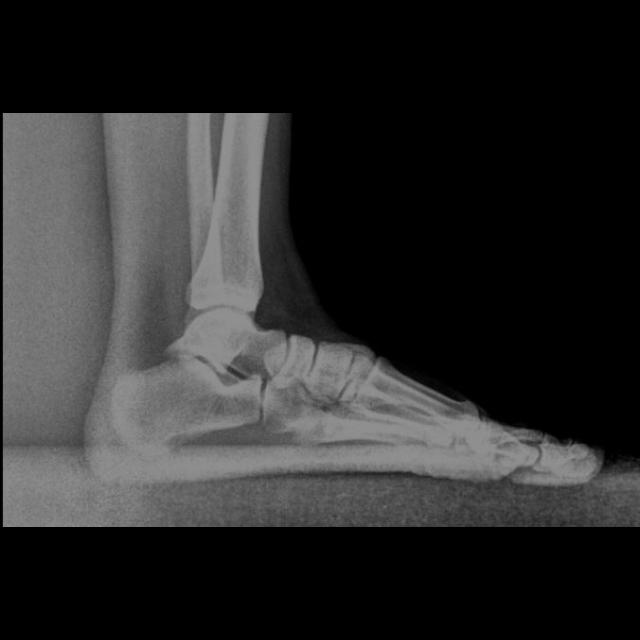a: (108, 356, 265, 459)
b: (272, 335, 313, 396)
c: (358, 356, 479, 443)
